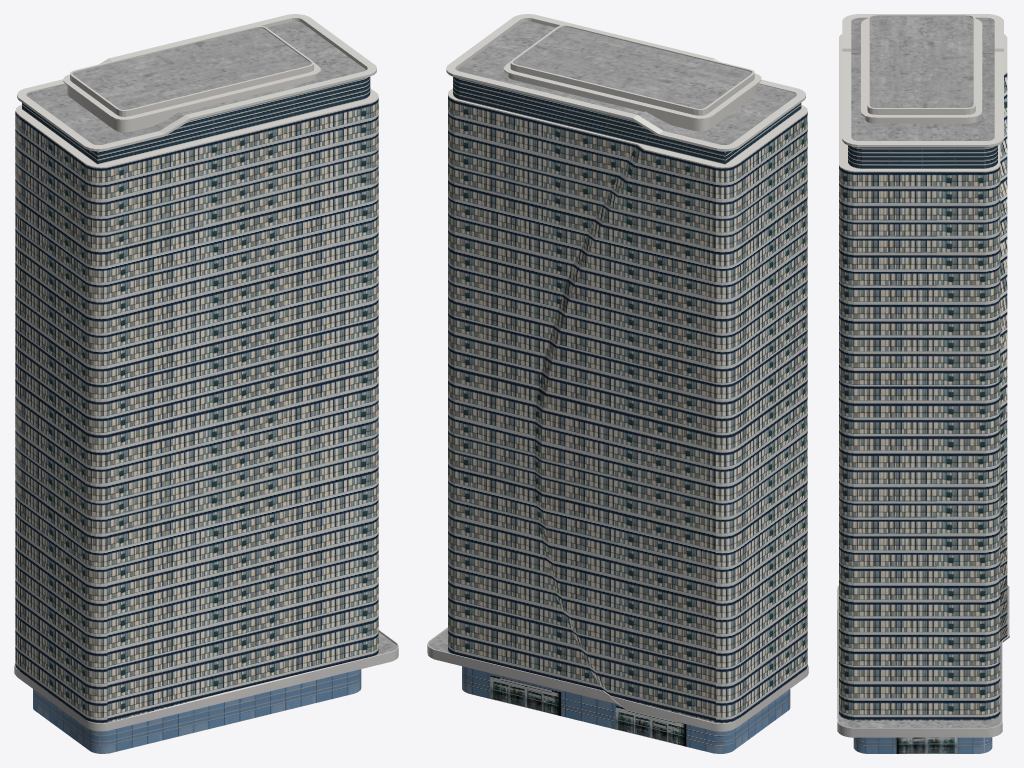
3 renders of one model, left to right at view 1: azimuth 30°, elevation 25°; view 2: azimuth 150°, elevation 25°; view 3: azimuth 270°, elevation 25°, orthographic.
Visible parts, largest first — view 1: CVPM2.001; view 2: CVPM2.001; view 3: CVPM2.001.
Part boxes in pixels (x1,y1,x2,y2): CVPM2.001: (14,14,398,753); CVPM2.001: (427,14,808,753); CVPM2.001: (837,14,1009,753).
Size of the model in its own units: 65.42 by 127 by 31.77.
1 material, 1 textured.
